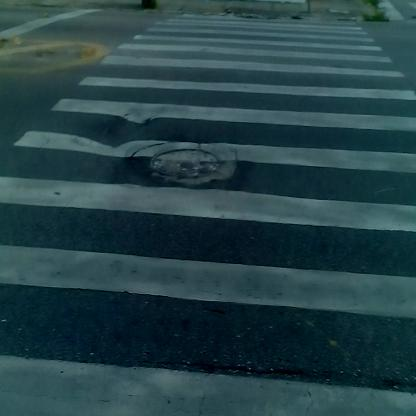crosswalk: (2, 19, 407, 416)
